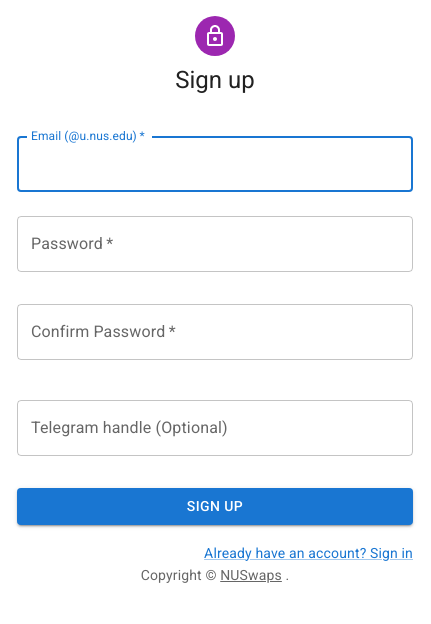
Test: Signup page › renders error text when email domain is wrong
The width and height of the screenshot is (431, 624).
Type "123" into the password field labelled "Password *".
click(215, 244); type("123")  # box [17,216,413,272]
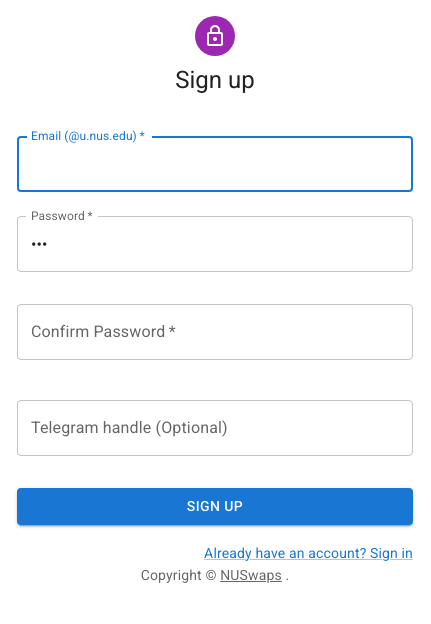
Type "test@123.com" into the field labelled "Email (@u.nus.edu) *".
click(215, 164); type("test@123.com")  # box [17,136,413,192]
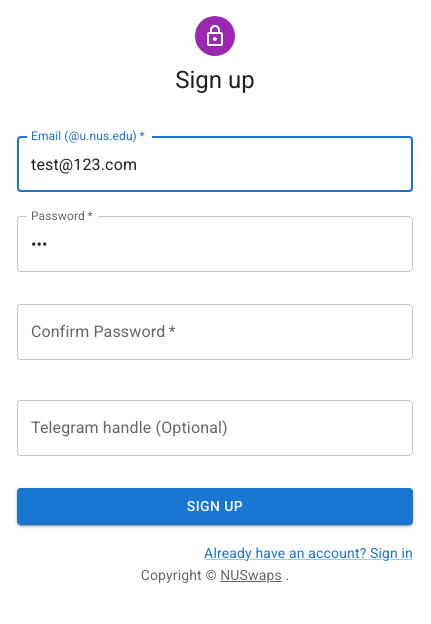
Type "123" into the password field labelled "Confirm Password *".
click(215, 332); type("123")  # box [17,304,413,360]
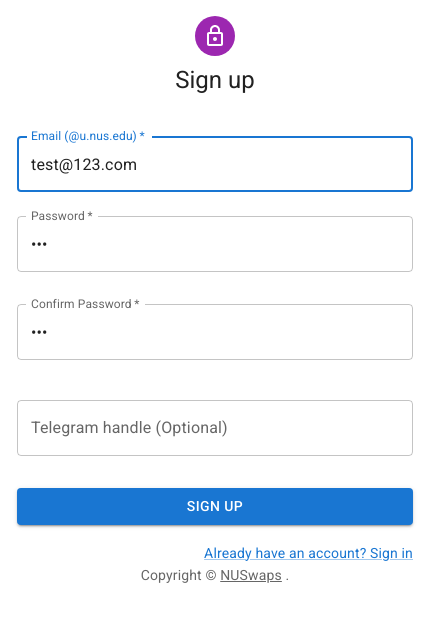
Type "@tester" into the field labelled "Telegram handle (Optional)".
click(215, 428); type("@tester")  # box [17,400,413,456]
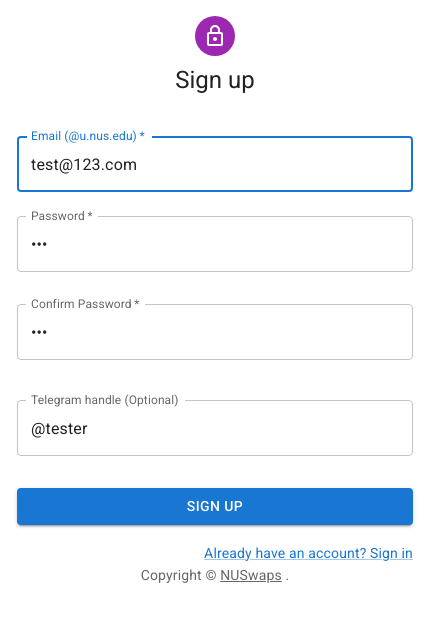
Click the button "Sign Up".
click(215, 506)  # box [17,488,413,524]
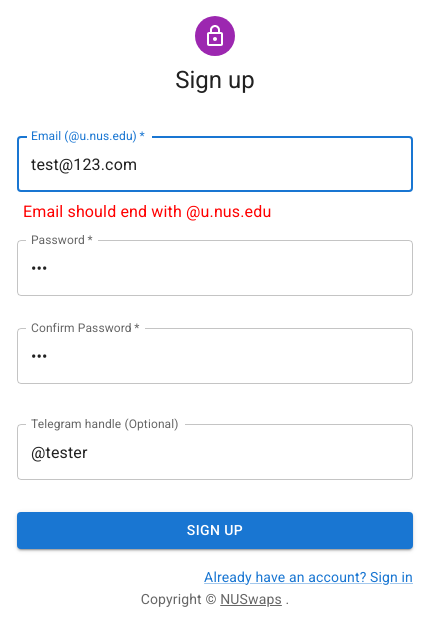
expect the text "Email should end with @u.nus.edu" is shown: met, box [23,202,271,221]
